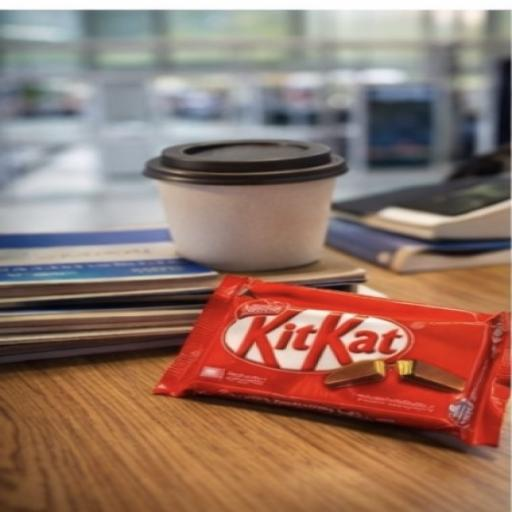kitkat: (118, 235, 512, 464)
